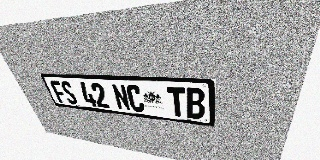2: (90, 83, 110, 108)
4: (78, 82, 98, 107)
B: (185, 88, 205, 119)
C: (125, 84, 145, 113)
F: (49, 81, 69, 104)
N: (111, 84, 131, 111)
S: (59, 81, 79, 105)
T: (166, 87, 186, 117)
